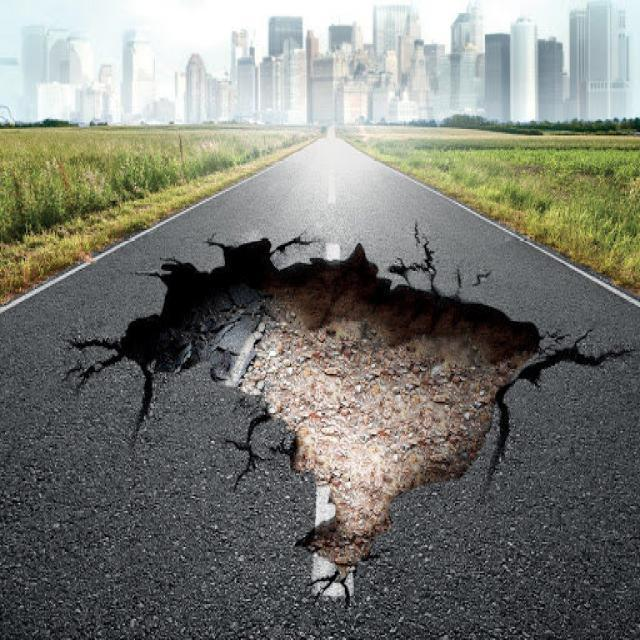pothole: (105, 226, 541, 546)
